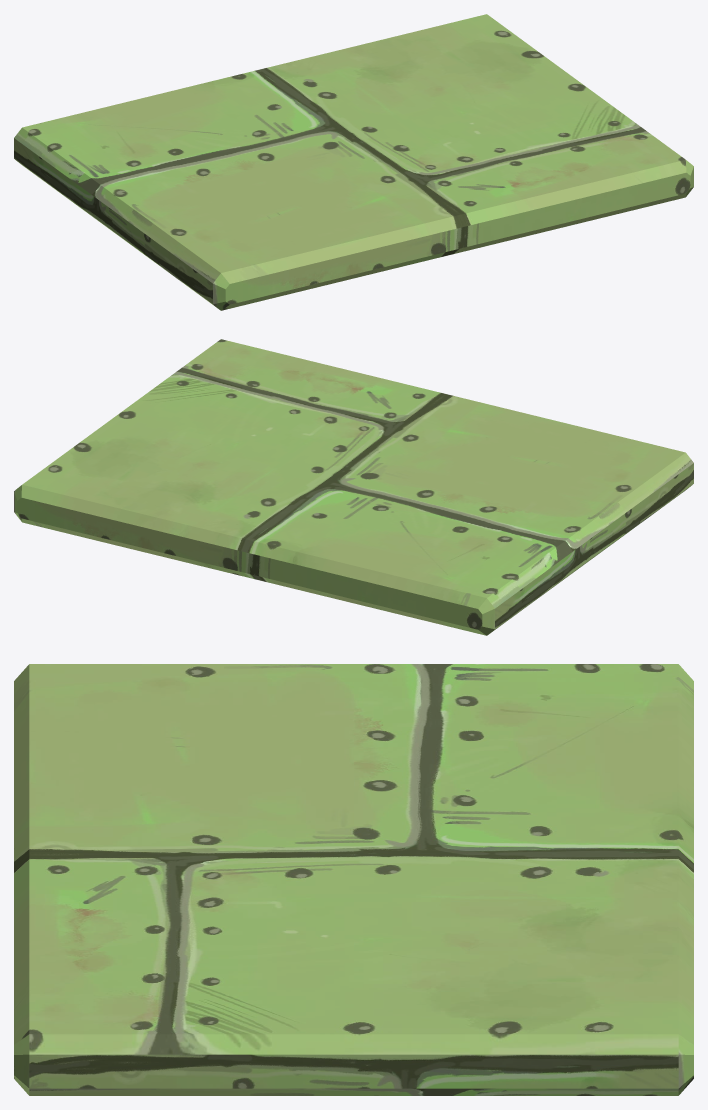
The model's file is R04_BANCO_GENETICO_Sano.obj.
3 renders of one model, top to bottom at view 1: azimuth 30°, elevation 25°; view 2: azimuth 150°, elevation 25°; view 3: azimuth 270°, elevation 25°, orthographic. The views are drawn at different scales.
Visible parts, largest first — view 1: R04_BANCO_GENETICO_Sano__Sano_R04_BANCO_GENETICO_01; view 2: R04_BANCO_GENETICO_Sano__Sano_R04_BANCO_GENETICO_01; view 3: R04_BANCO_GENETICO_Sano__Sano_R04_BANCO_GENETICO_01.
Boxes of the visible parts, box(x1,y1,x2,y2) form: R04_BANCO_GENETICO_Sano__Sano_R04_BANCO_GENETICO_01: box(14, 14, 693, 310); R04_BANCO_GENETICO_Sano__Sano_R04_BANCO_GENETICO_01: box(14, 339, 693, 635); R04_BANCO_GENETICO_Sano__Sano_R04_BANCO_GENETICO_01: box(14, 664, 693, 1095).
Bounding box in the file's own units: 0.8 × 0.06 × 0.6.
1 material, 1 textured.
